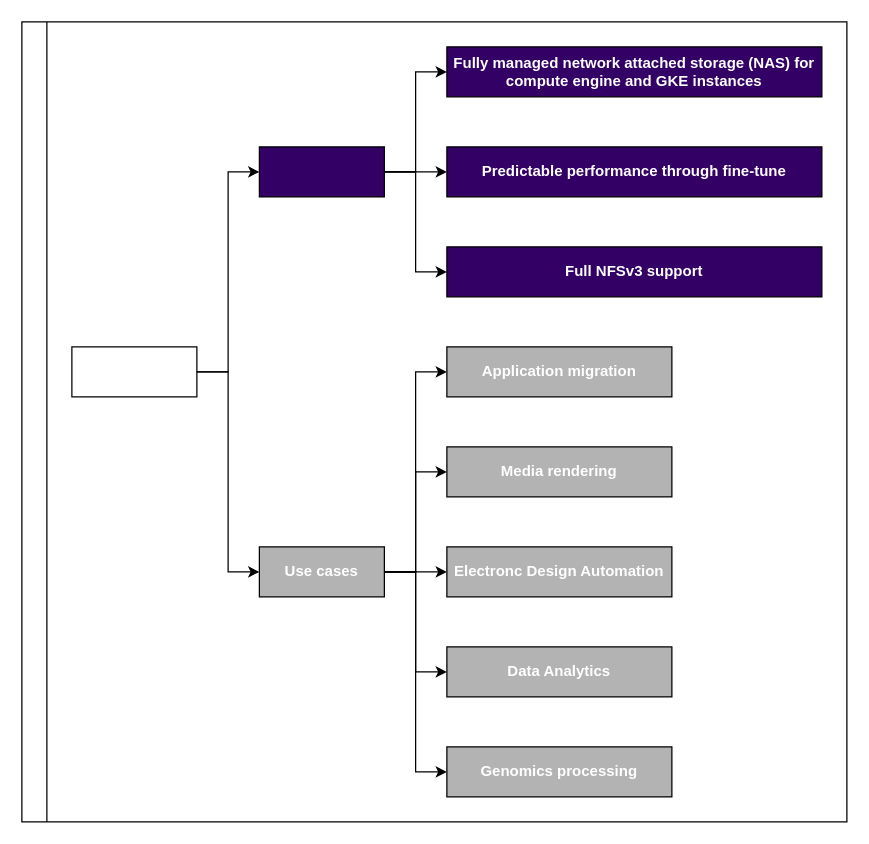
Some shapes in this 869 by 844 pixel diagram are drawn without their labels. Each missing label, with the centre of its shape:
"Filestore" goes at [134,371].
"Key Features" goes at [321,171].
